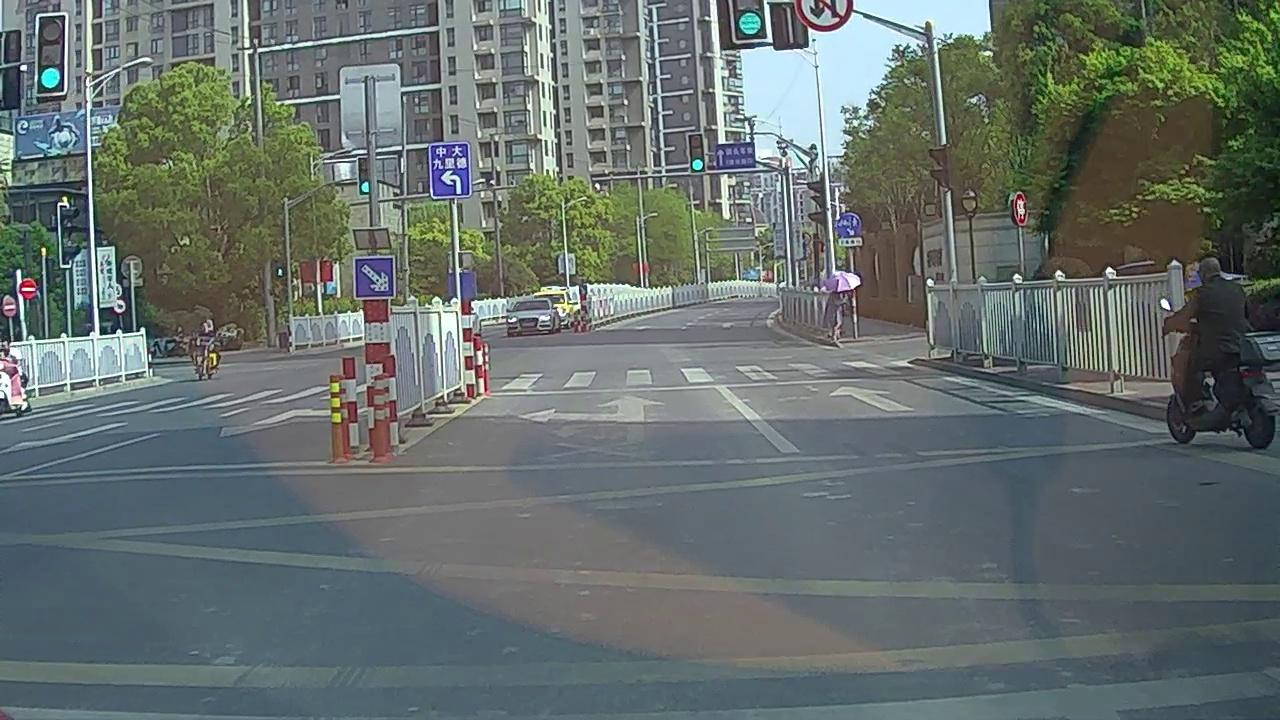traffic_light: (39, 14, 64, 95), (732, 1, 770, 43), (689, 133, 705, 174), (359, 157, 372, 195)
